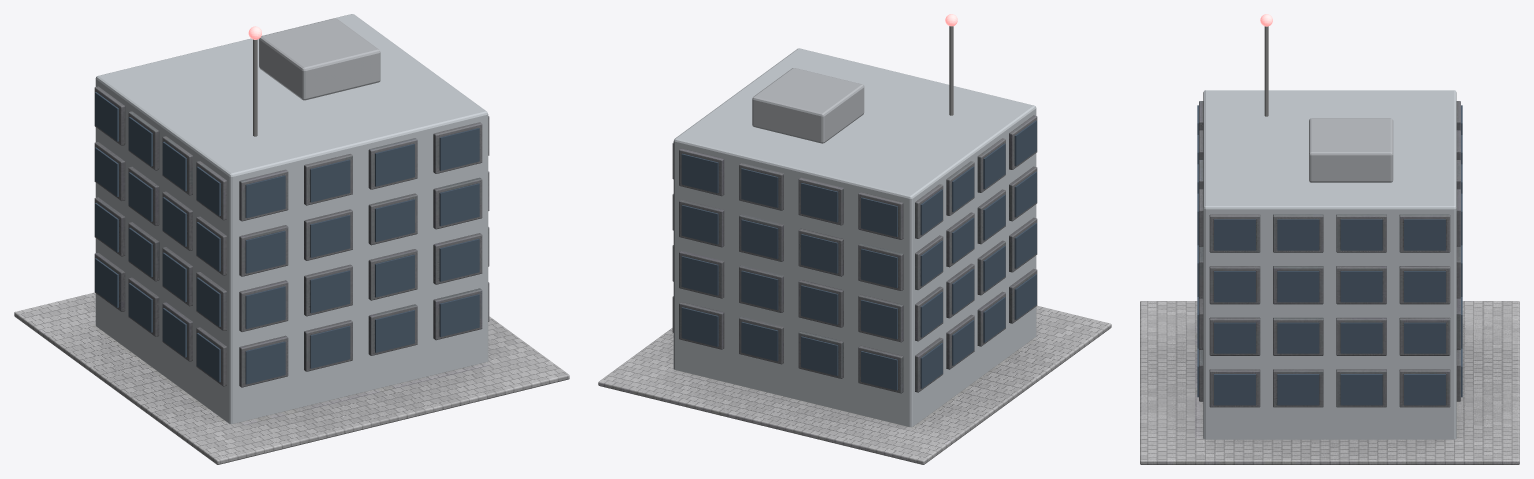
File: labor.glb
The picture shows the model from 3 angles, left to right: view 1: azimuth 30°, elevation 25°; view 2: azimuth 150°, elevation 25°; view 3: azimuth 270°, elevation 25°; orthographic projection. The views are drawn at different scales.
Parts seen in each view (by area): view 1: labor_details, labor; view 2: labor_details, labor; view 3: labor_details, labor.
Part boxes in pixels (box(x1,y1,x2,y2)): labor_details: box(95, 14, 488, 423); labor: box(14, 86, 569, 464); labor_details: box(673, 14, 1036, 427); labor: box(598, 115, 1111, 464); labor_details: box(1197, 14, 1462, 439); labor: box(1140, 101, 1519, 464).
Size of the model in its own units: 0.9 by 0.885 by 0.9.
Materials: 6 (1 with a texture image).
